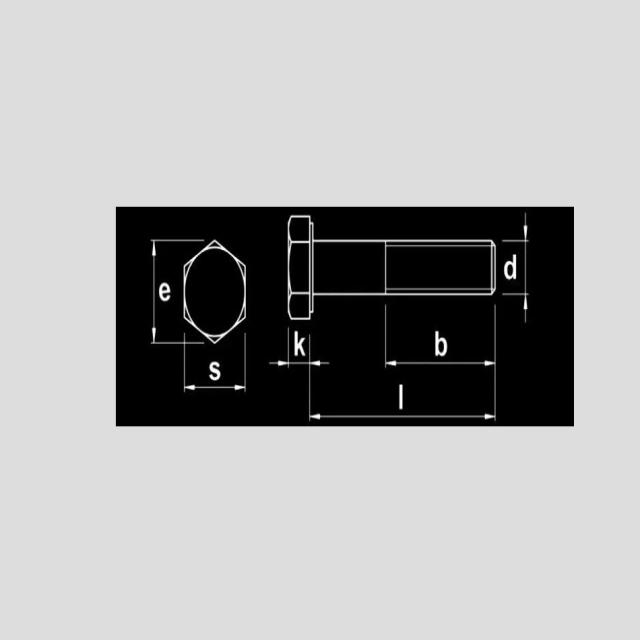marking_line: (271, 321, 497, 421), (384, 295, 497, 368), (150, 239, 183, 347), (500, 213, 531, 325), (182, 343, 248, 391), (271, 326, 330, 371)
numeric: (502, 253, 518, 284), (433, 330, 448, 360), (292, 329, 305, 358), (206, 357, 221, 382), (155, 282, 170, 304), (398, 382, 406, 412)
